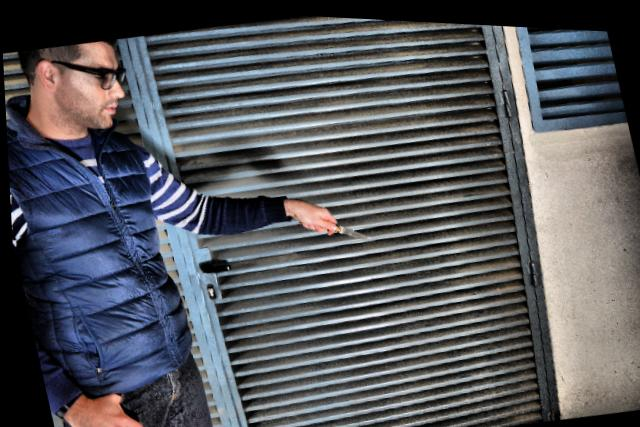knife: (294, 203, 373, 247)
